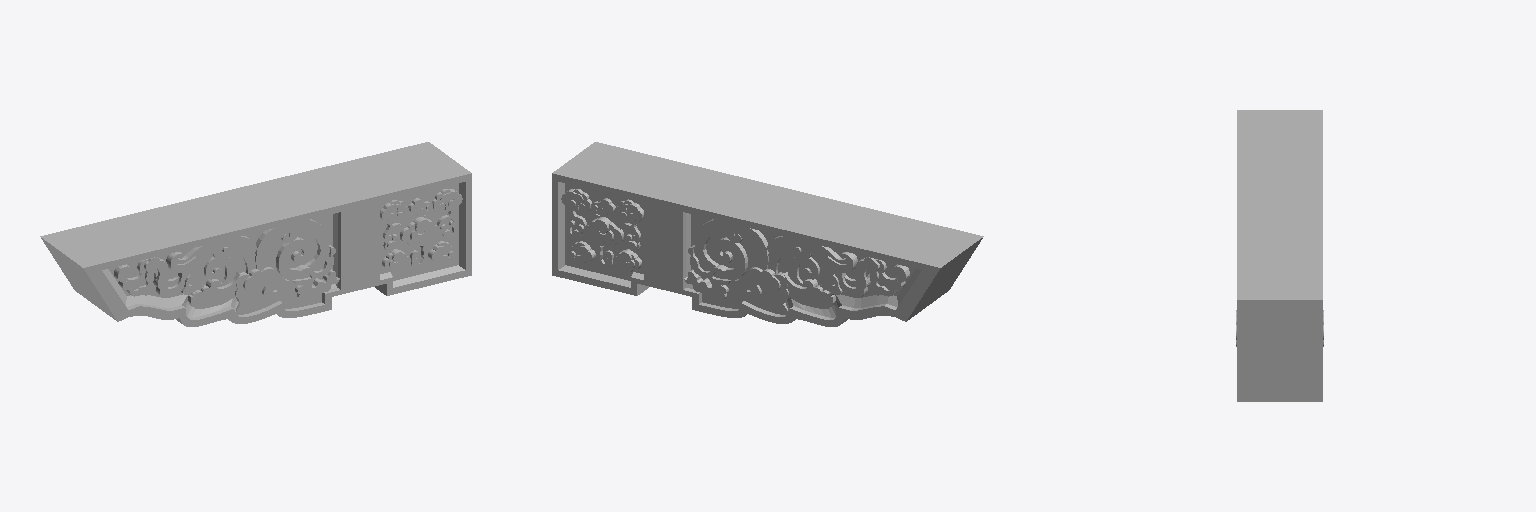
File: Queti_C.obj
3 views of the same model, side by side, from view 1: azimuth 30°, elevation 25°; view 2: azimuth 150°, elevation 25°; view 3: azimuth 270°, elevation 25° (orthographic).
Visible parts, largest first — view 1: Queti; view 2: Queti; view 3: Queti.
Part boxes in pixels (x1,y1,x2,y2): Queti: (40,142,471,326); Queti: (552,142,983,326); Queti: (1236,110,1323,401).
Size of the model in its own units: 1.92 by 0.4838 by 0.3763.